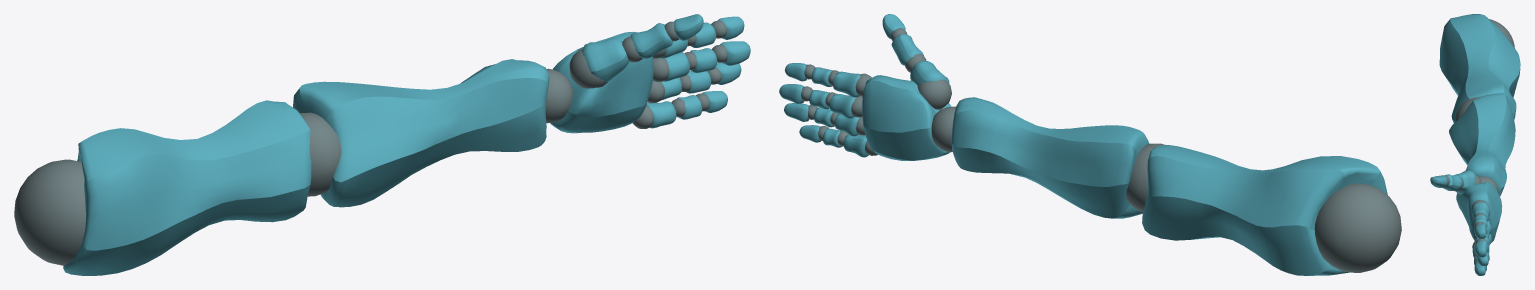
File: arm.glb
3 renders of one model, left to right at view 1: azimuth 30°, elevation 25°; view 2: azimuth 150°, elevation 25°; view 3: azimuth 270°, elevation 25°, orthographic. The views are drawn at different scales.
Parts seen in each view (by area): view 1: Alpha_Surface.001, Alpha_Surface.002, Alpha_Surface, Alpha_Joints.001, Alpha_Surface.003, Alpha_Joints, Alpha_Joints.002, Alpha_Joints.003; view 2: Alpha_Surface.001, Alpha_Surface.002, Alpha_Joints.001, Alpha_Surface, Alpha_Surface.003, Alpha_Joints, Alpha_Joints.002, Alpha_Joints.003; view 3: Alpha_Surface.001, Alpha_Surface.002, Alpha_Surface, Alpha_Surface.003, Alpha_Joints, Alpha_Joints.002, Alpha_Joints.001, Alpha_Joints.003.
Boxes of the visible parts, bbox=[...] form: Alpha_Surface.001: bbox=[63, 100, 311, 275]; Alpha_Surface.002: bbox=[293, 59, 549, 207]; Alpha_Surface: bbox=[582, 14, 750, 128]; Alpha_Joints.001: bbox=[14, 159, 85, 265]; Alpha_Surface.003: bbox=[550, 31, 653, 133]; Alpha_Joints: bbox=[569, 20, 727, 128]; Alpha_Joints.002: bbox=[299, 112, 341, 196]; Alpha_Joints.003: bbox=[545, 68, 572, 123]; Alpha_Surface.001: bbox=[1142, 144, 1387, 275]; Alpha_Surface.002: bbox=[951, 97, 1149, 218]; Alpha_Joints.001: bbox=[1314, 183, 1401, 272]; Alpha_Surface: bbox=[779, 14, 949, 157]; Alpha_Surface.003: bbox=[862, 75, 951, 160]; Alpha_Joints: bbox=[801, 28, 951, 155]; Alpha_Joints.002: bbox=[1126, 143, 1163, 211]; Alpha_Joints.003: bbox=[931, 106, 955, 152]; Alpha_Surface.001: bbox=[1439, 14, 1520, 123]; Alpha_Surface.002: bbox=[1449, 93, 1515, 196]; Alpha_Surface: bbox=[1430, 170, 1491, 275]; Alpha_Surface.003: bbox=[1456, 181, 1502, 242]; Alpha_Joints: bbox=[1441, 174, 1488, 265]; Alpha_Joints.002: bbox=[1455, 97, 1479, 121]; Alpha_Joints.001: bbox=[1489, 19, 1514, 47]; Alpha_Joints.003: bbox=[1479, 176, 1498, 193].
Bounding box in the file's own units: 0.896 × 0.1655 × 0.1584.
